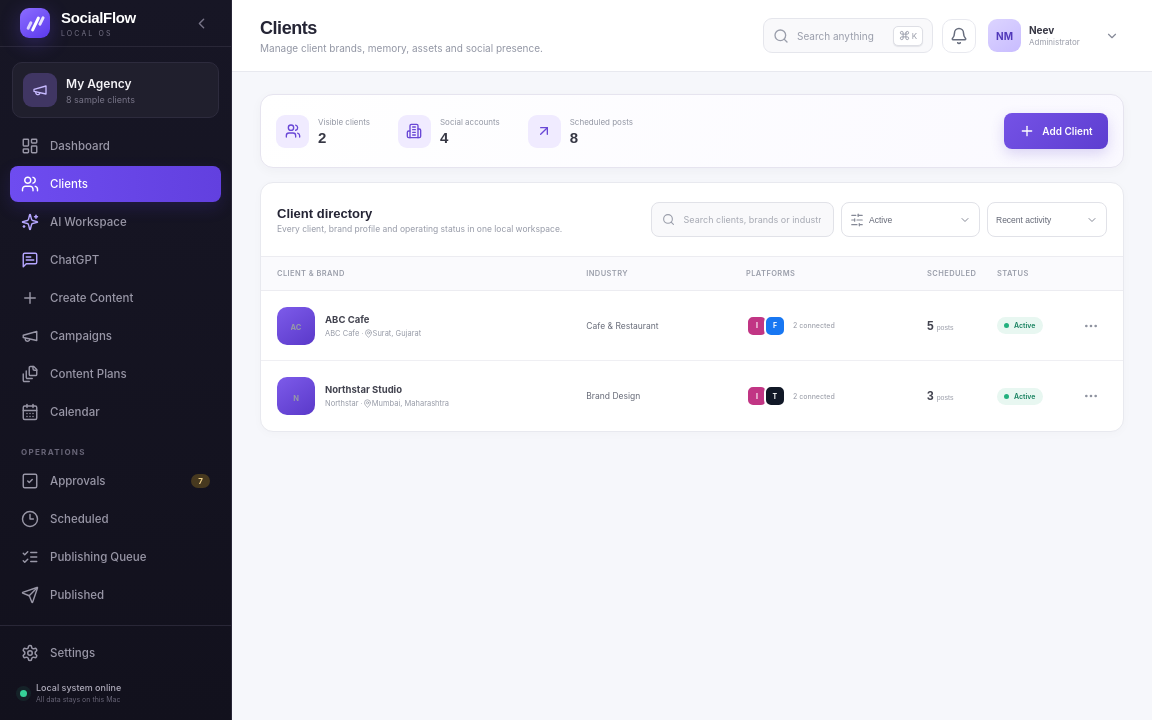
Scenario: Phase 2 client and brand management › searches and filters the multi-client directory
Expected: the text "Northstar Studio" is shown, [325,384,402,395]
Type "Northstar" into the field labelled "Search clients" at (752, 220), box [682,213,823,226]
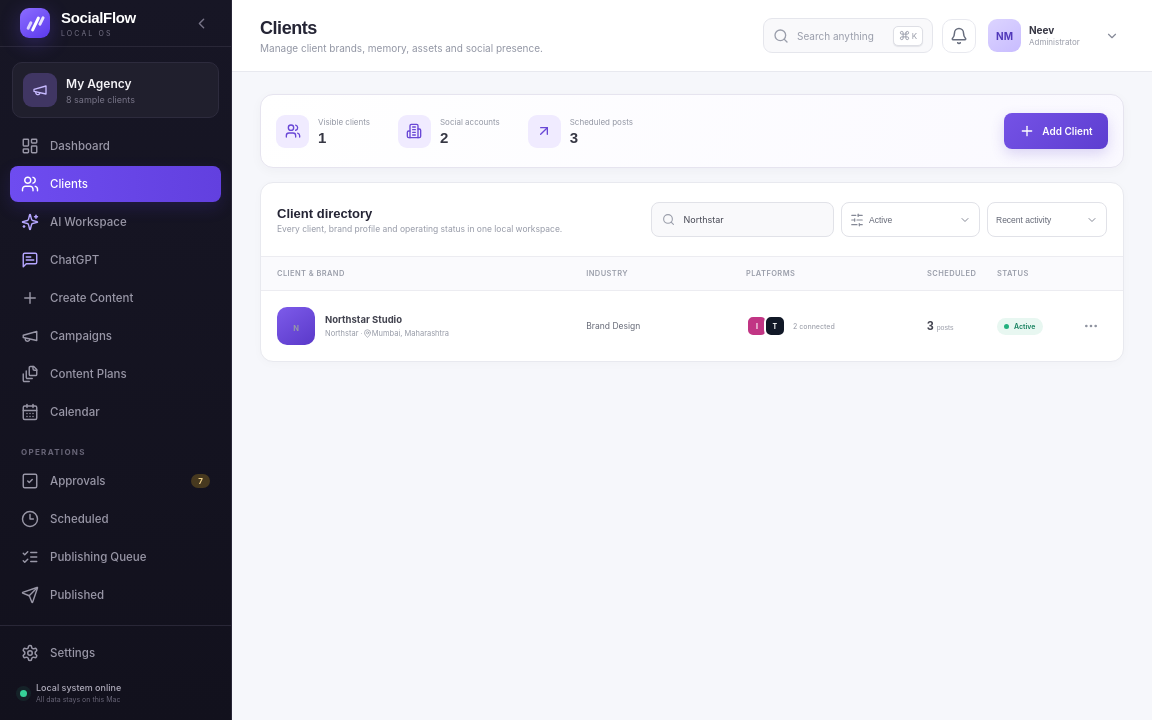
Expected: the text "Northstar Studio" is shown, [325,314,402,325]
Now the link "ABC Cafe" is gone
Clear the field named "Search clients" at (752, 220), box [682,213,823,226]
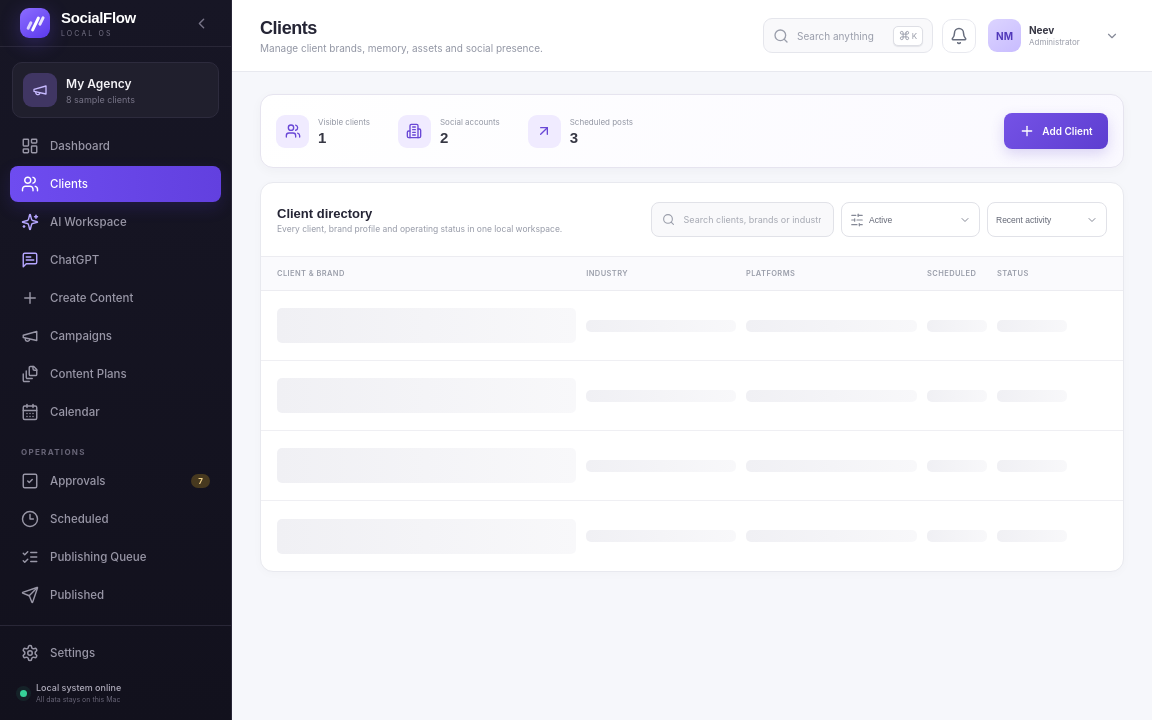
Select "Paused" in the dropdown named "Filter clients" at (912, 220), box [869,214,954,224]
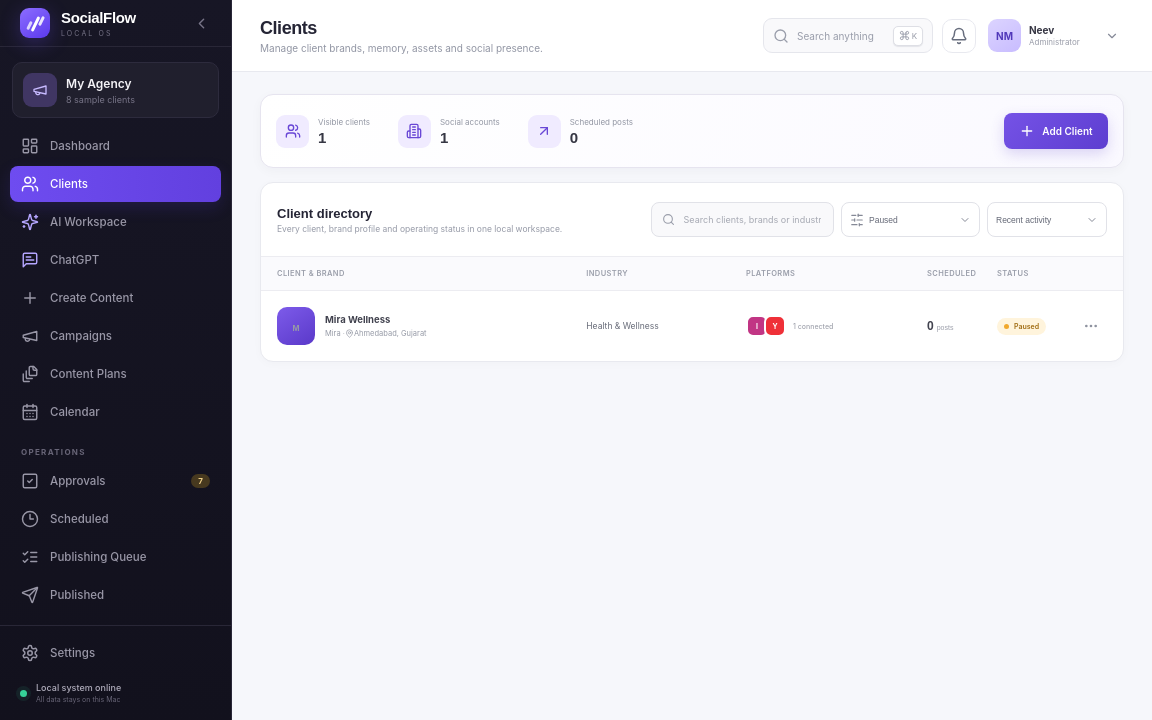
Now the text "Mira Wellness" is shown, box [325,314,390,325]
